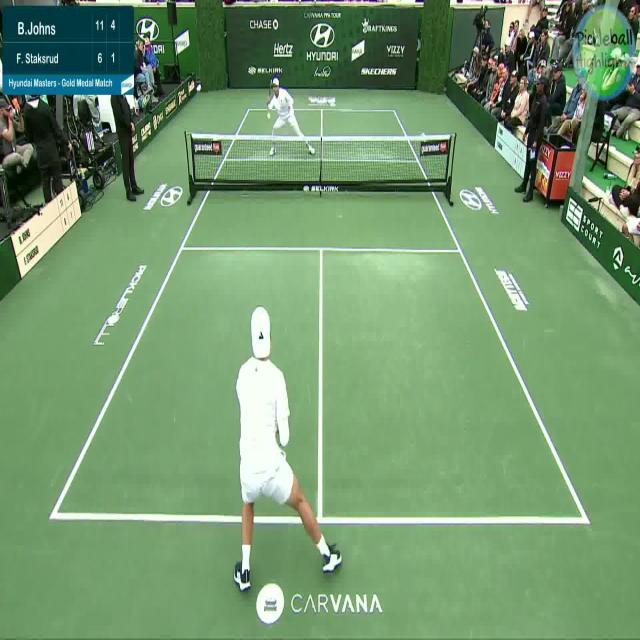ball: (263, 109, 274, 125)
